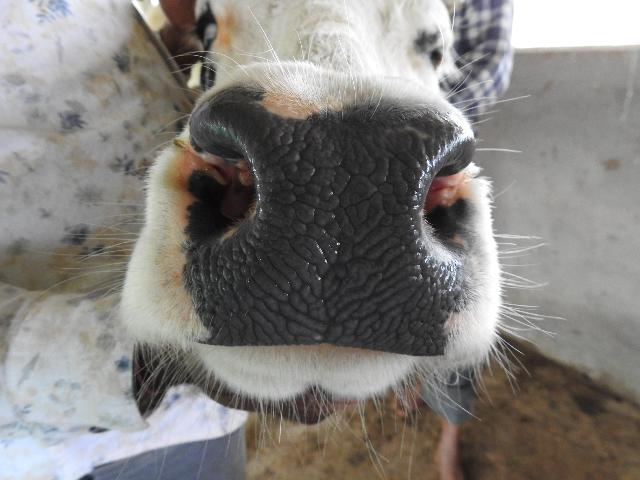Muzzle: (222, 114, 438, 352)
